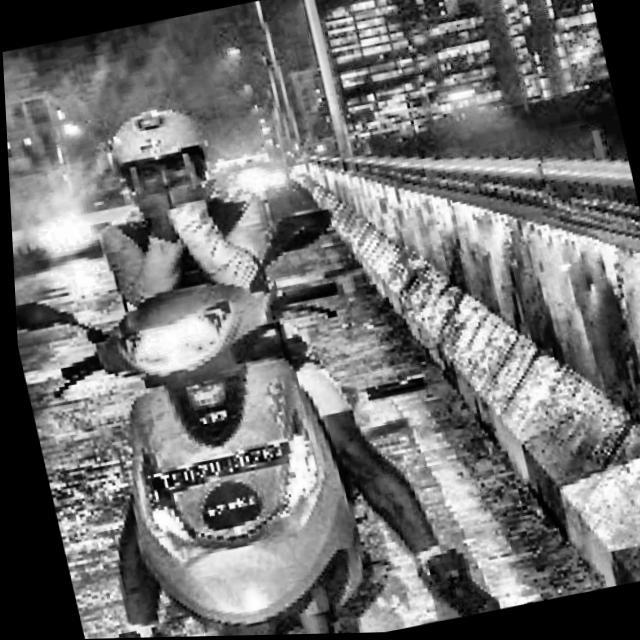motorcycle: (8, 186, 426, 640)
